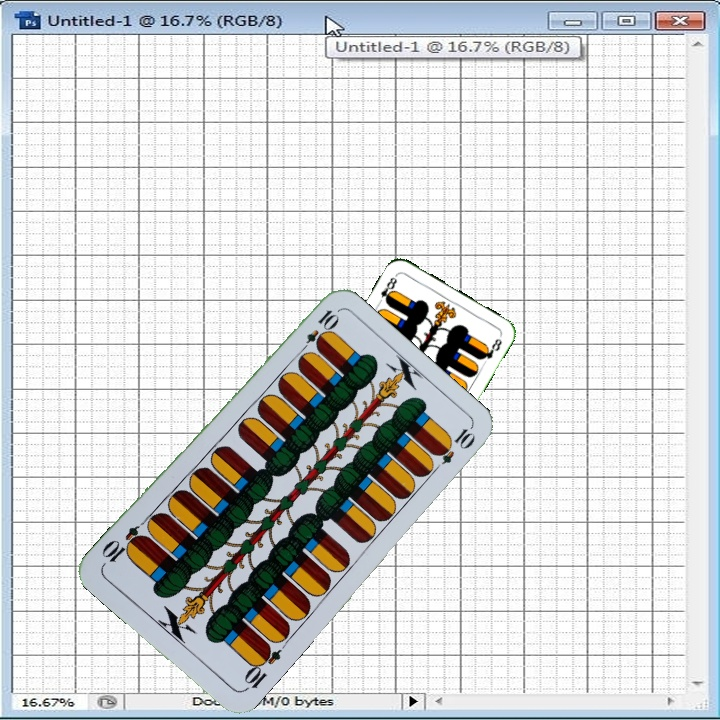E10: (295, 305, 341, 358), (239, 640, 284, 694)
E8: (374, 271, 400, 307)
